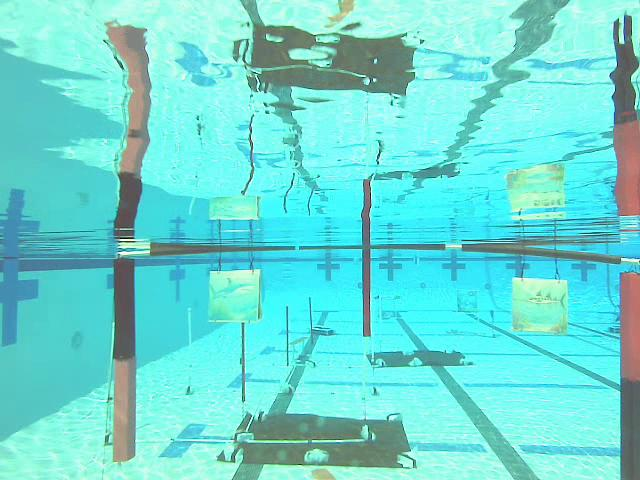black_poster: (241, 322, 246, 401), (284, 307, 290, 370), (308, 298, 315, 345)
divider: (364, 245, 371, 335)
left_gate_poster: (113, 257, 137, 460)
right_gate_poster: (622, 274, 640, 480)
shark: (207, 270, 260, 321)
swordfish: (513, 280, 567, 334)
white_poster: (188, 307, 193, 368)
